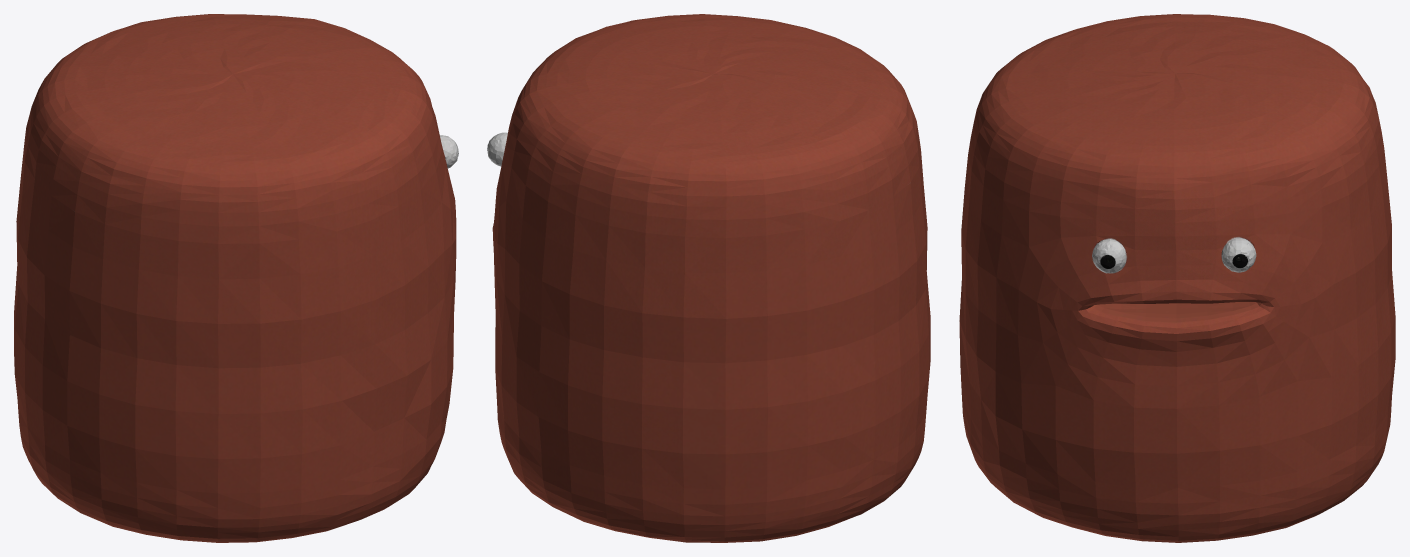
File: frank.glb
The picture shows the model from 3 angles, left to right: view 1: azimuth 30°, elevation 25°; view 2: azimuth 150°, elevation 25°; view 3: azimuth 270°, elevation 25°; orthographic projection.
Parts seen in each view (by area): view 1: tripo_node_b5a49067-ae38-4dd8-ac12-47e3a6e7823b; view 2: tripo_node_b5a49067-ae38-4dd8-ac12-47e3a6e7823b; view 3: tripo_node_b5a49067-ae38-4dd8-ac12-47e3a6e7823b.
Part boxes in pixels (left/top/right/bottom): tripo_node_b5a49067-ae38-4dd8-ac12-47e3a6e7823b: left=14, top=14, right=458, bottom=542; tripo_node_b5a49067-ae38-4dd8-ac12-47e3a6e7823b: left=487, top=14, right=930, bottom=542; tripo_node_b5a49067-ae38-4dd8-ac12-47e3a6e7823b: left=959, top=14, right=1395, bottom=542.
Size of the model in its own units: 0.998 by 0.9863 by 0.9902.
1 material, 1 textured.
